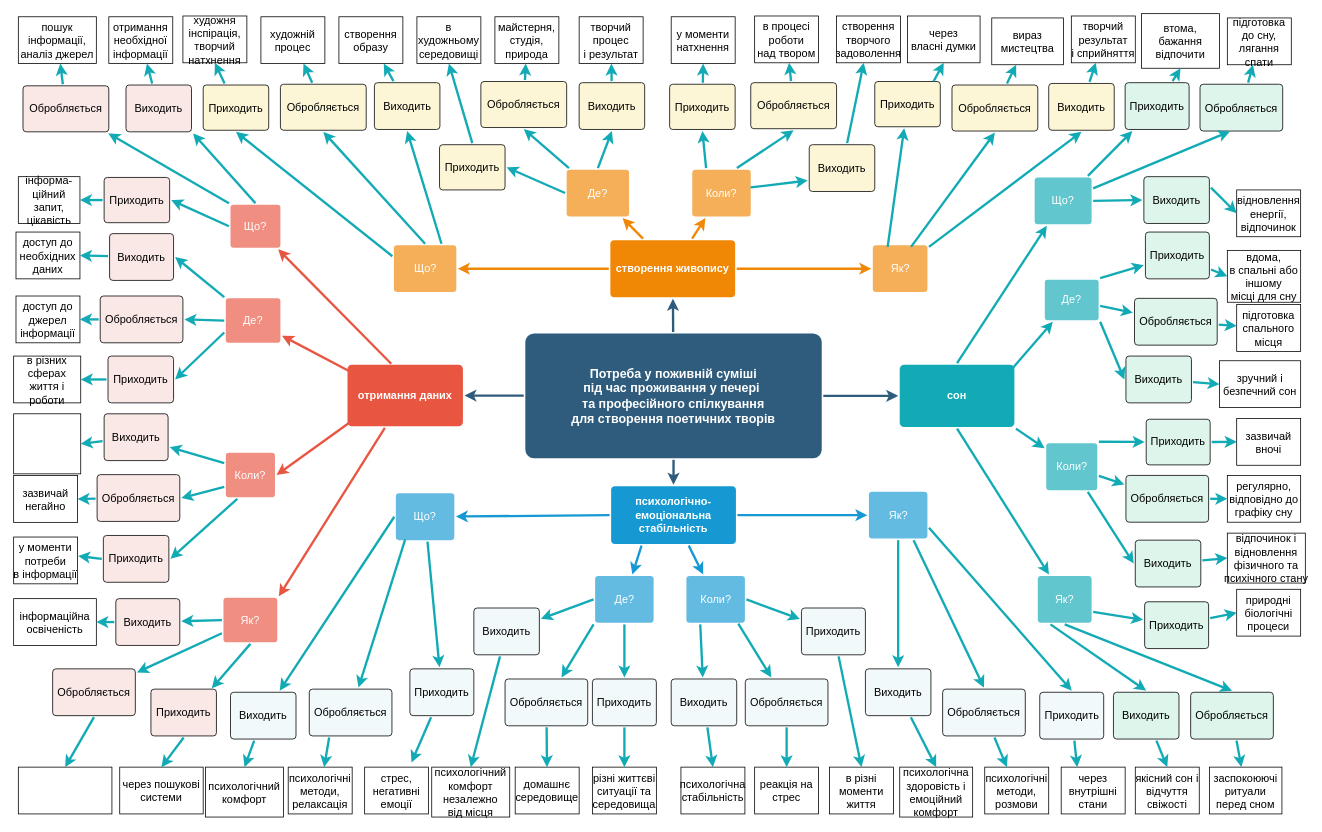
This 1322x832 diagram has some shape labels left out. Here are the shapes that lost their labels. From the top down, the box of each, then its label:
(13, 413, 81, 474): наявність необхідних даних для вирішення завдань
(18, 766, 112, 814): пошук, аналіз інформації
